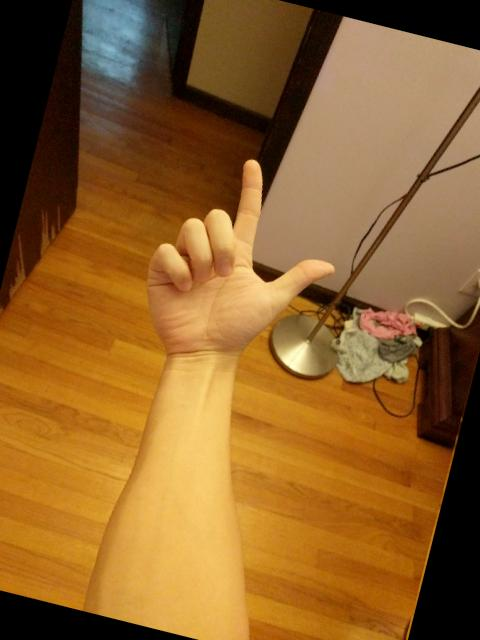L: (123, 136, 362, 398)
